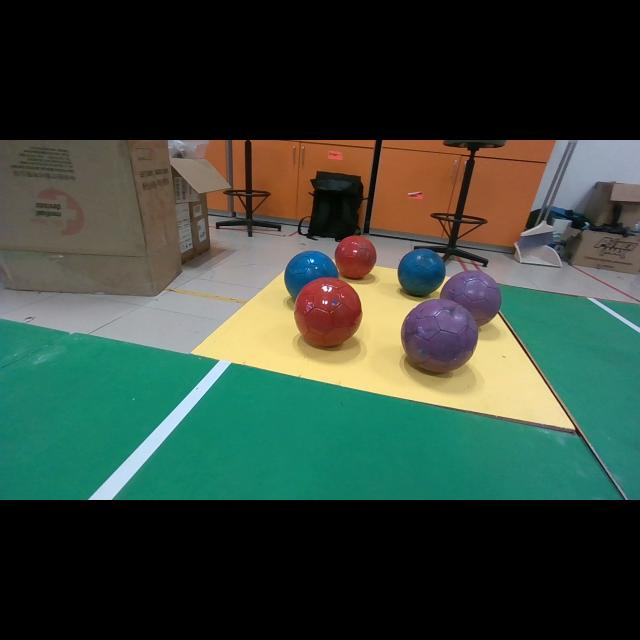B: (285, 251, 339, 299), (398, 249, 445, 296)
P: (401, 299, 479, 372), (440, 270, 501, 325)
R: (294, 278, 362, 347), (335, 235, 376, 279)
